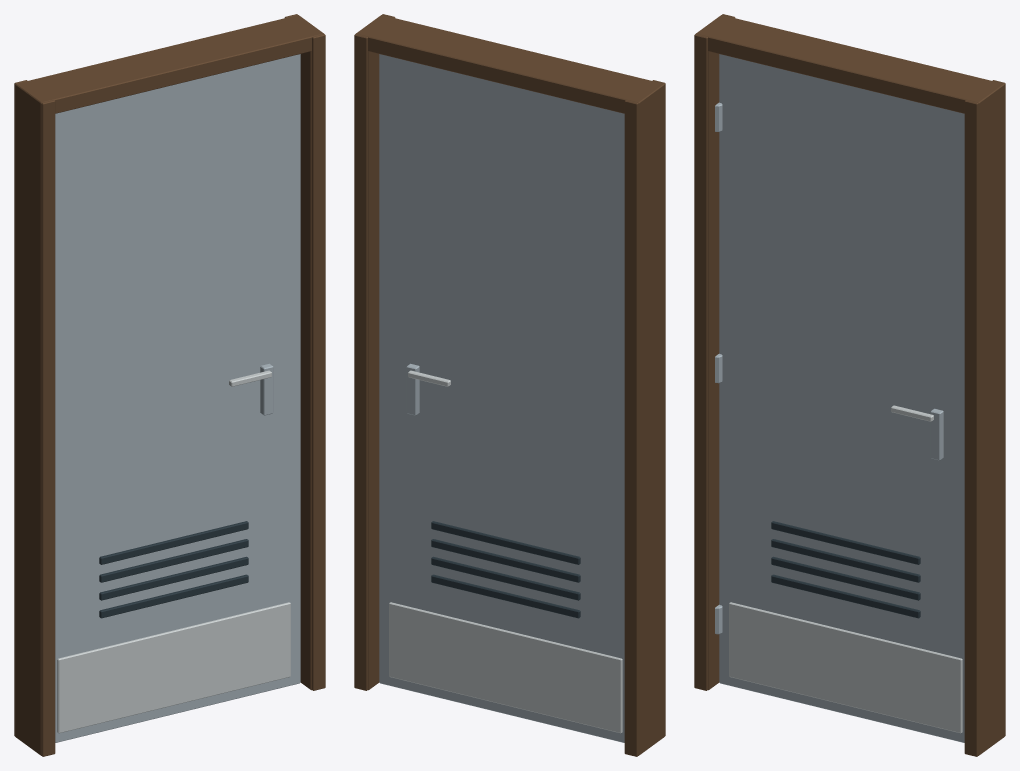
File: b21_door_steel_service.glb
3 renders of one model, left to right at view 1: azimuth 30°, elevation 25°; view 2: azimuth 150°, elevation 25°; view 3: azimuth 330°, elevation 25°, orthographic.
Parts seen in each view (by area): view 1: b21_door_steel_service; view 2: b21_door_steel_service; view 3: b21_door_steel_service.
Boxes of the visible parts, x1=… form: b21_door_steel_service: x1=14, y1=14, x2=325, y2=756; b21_door_steel_service: x1=354, y1=14, x2=665, y2=756; b21_door_steel_service: x1=694, y1=14, x2=1005, y2=756.
Size of the model in its own units: 1 by 2.2 by 0.176.
